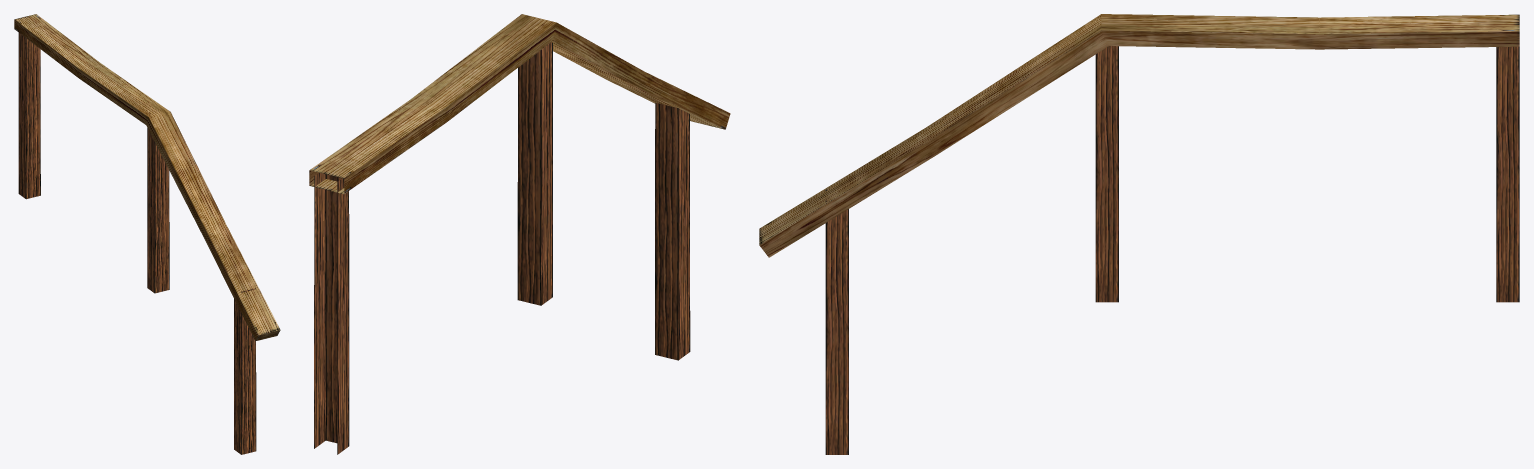
File: LAKETOWN_GENHOUSE1_PS_GH1_HANDRAIL57__GX.fbx
3 views of the same model, side by side, from view 1: azimuth 30°, elevation 25°; view 2: azimuth 150°, elevation 25°; view 3: azimuth 270°, elevation 25° (orthographic). The views are drawn at different scales.
Visible parts, largest first — view 1: LAKETOWN_GENHOUSE1_PS_GH1_HANDRAIL57__GX; view 2: LAKETOWN_GENHOUSE1_PS_GH1_HANDRAIL57__GX; view 3: LAKETOWN_GENHOUSE1_PS_GH1_HANDRAIL57__GX.
Part boxes in pixels (x1,y1,x2,y2): LAKETOWN_GENHOUSE1_PS_GH1_HANDRAIL57__GX: (14, 14, 280, 454); LAKETOWN_GENHOUSE1_PS_GH1_HANDRAIL57__GX: (309, 14, 730, 454); LAKETOWN_GENHOUSE1_PS_GH1_HANDRAIL57__GX: (759, 14, 1519, 454).
Bounding box in the file's own units: 1273 × 15061 × 24332.
Materials: 2 (2 with a texture image).
